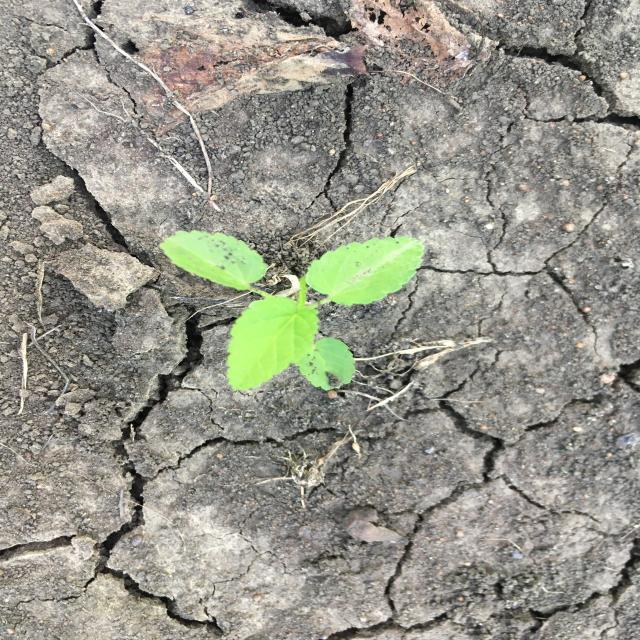PricklySida: (157, 228, 428, 392)
